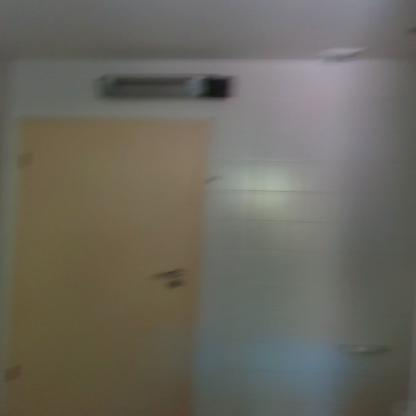door: (15, 122, 198, 416)
hinged: (6, 364, 22, 380), (20, 150, 30, 167)
lever: (155, 269, 184, 280)
